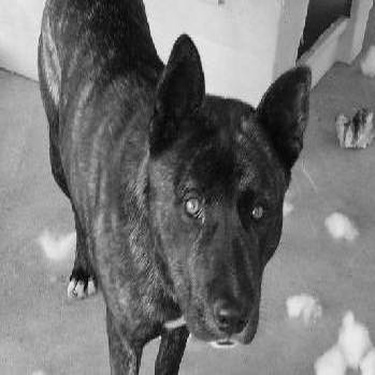dog: (10, 1, 315, 374)
